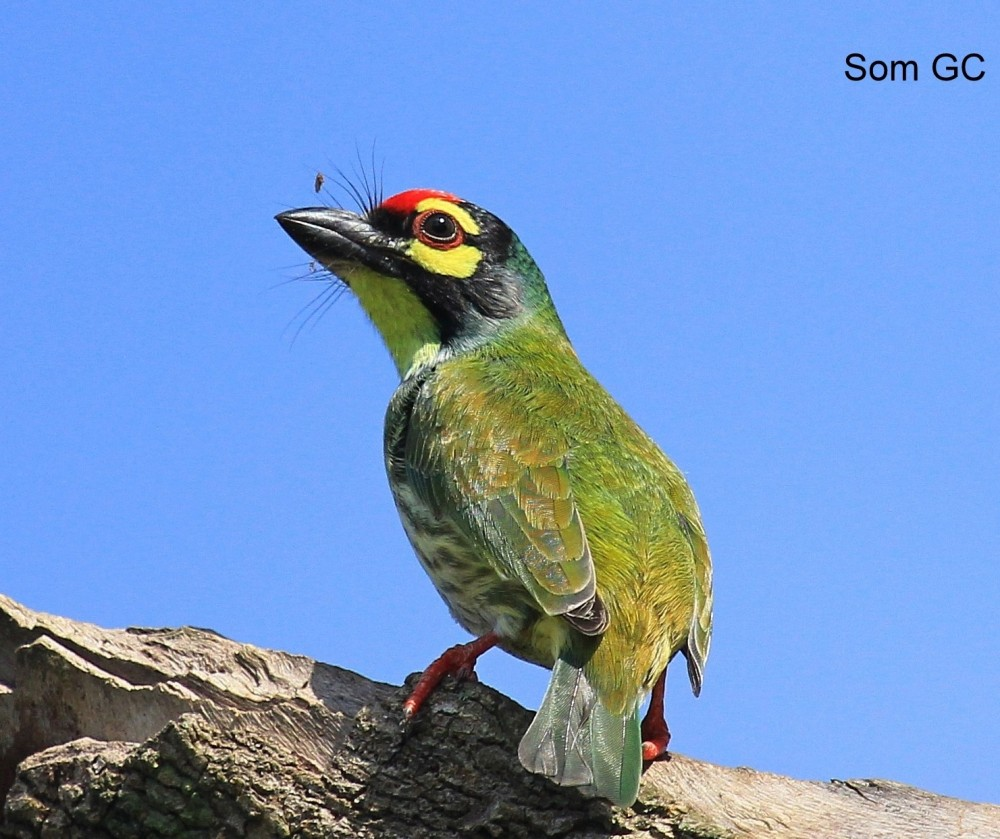bird: (235, 139, 738, 833)
